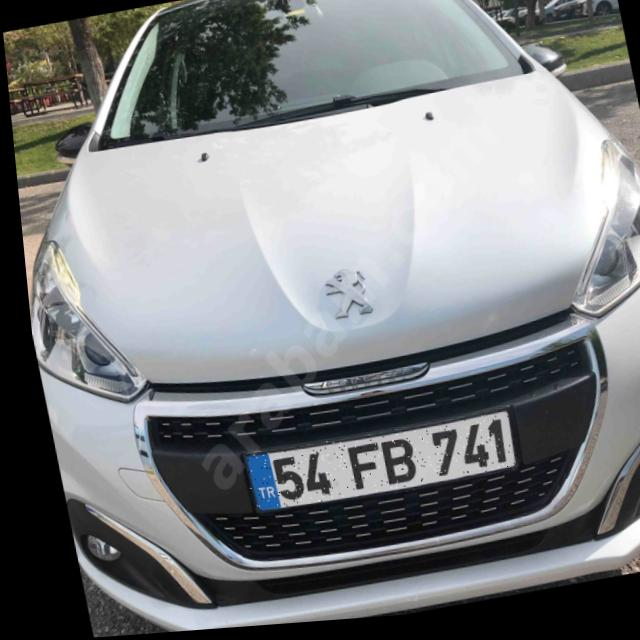license_plate: (232, 415, 510, 517)
